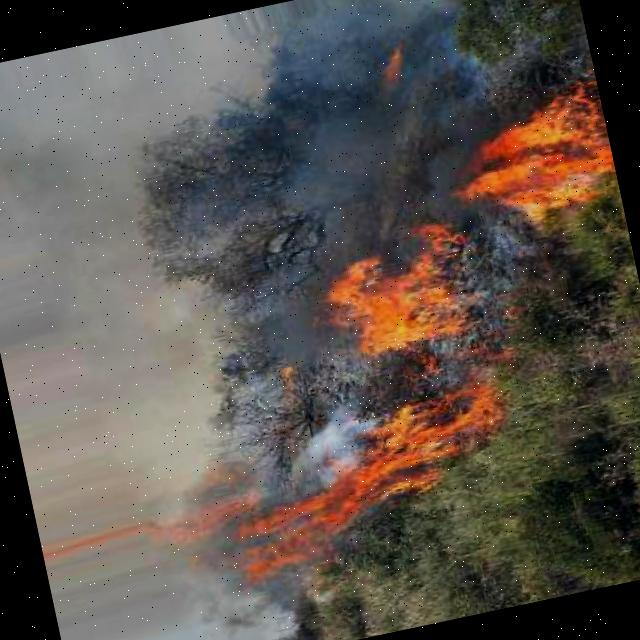fire: (243, 393, 501, 521), (457, 83, 623, 237), (319, 227, 479, 363)
